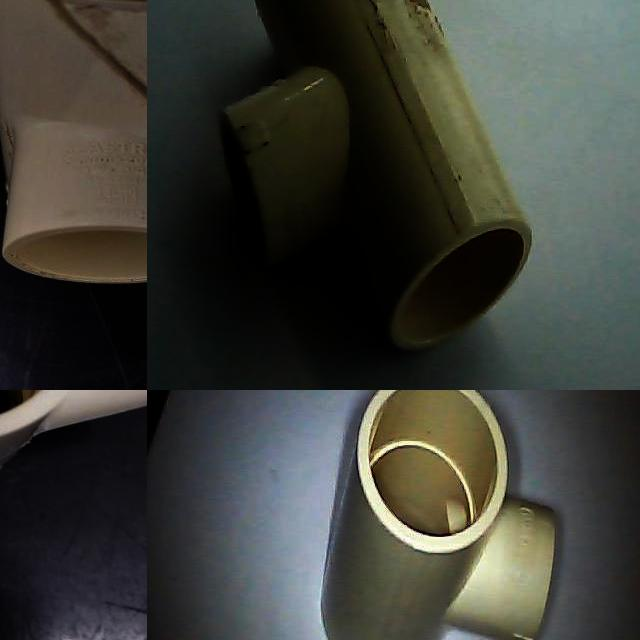Defective: (38, 0, 147, 140)
T Joint: (225, 0, 534, 355), (319, 390, 562, 640)
